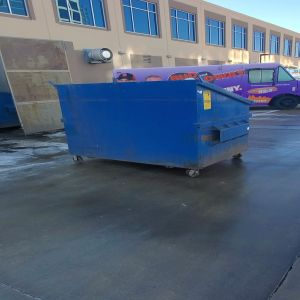Dumpster: (55, 83, 256, 181)
